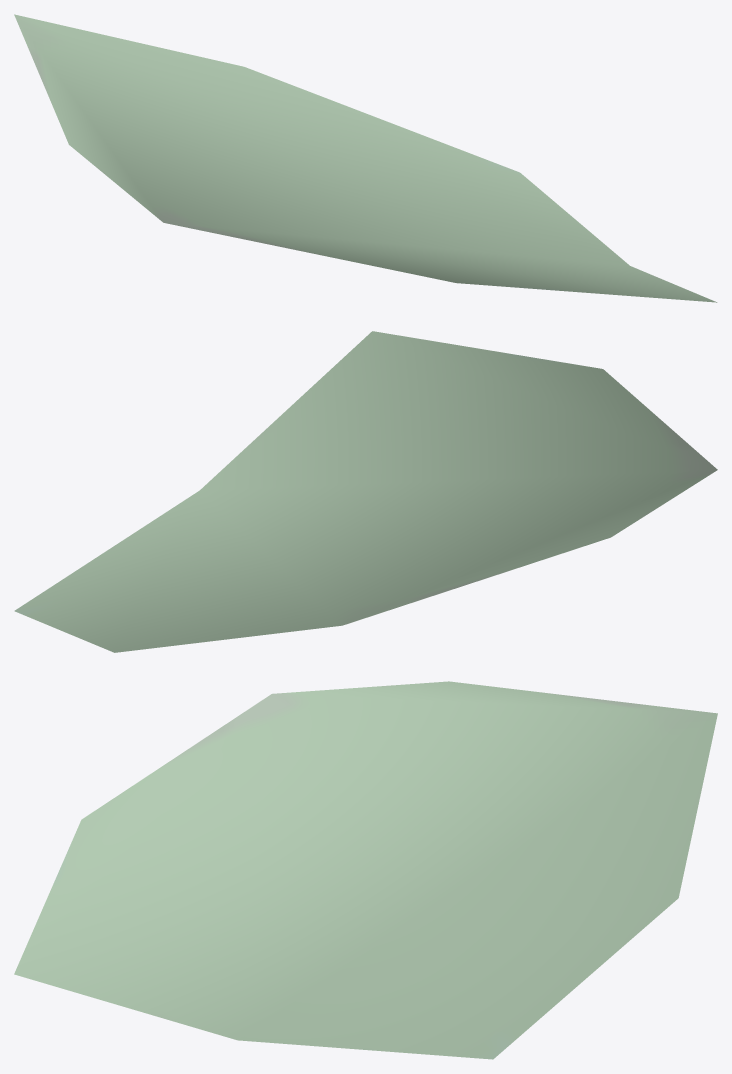
Rendered from TROLLHOLE02_HOLECAP99.fbx.
3 renders of one model, top to bottom at view 1: azimuth 30°, elevation 25°; view 2: azimuth 150°, elevation 25°; view 3: azimuth 270°, elevation 25°, orthographic. The views are drawn at different scales.
Visible parts, largest first — view 1: TROLLHOLE02_HOLECAP99; view 2: TROLLHOLE02_HOLECAP99; view 3: TROLLHOLE02_HOLECAP99.
Boxes of the visible parts, x1=… form: TROLLHOLE02_HOLECAP99: x1=14, y1=14, x2=717, y2=302; TROLLHOLE02_HOLECAP99: x1=14, y1=331, x2=717, y2=652; TROLLHOLE02_HOLECAP99: x1=14, y1=681, x2=717, y2=1059.
Bounding box in the file's own units: 16594 × 5624 × 22095.
1 material, 1 textured.
